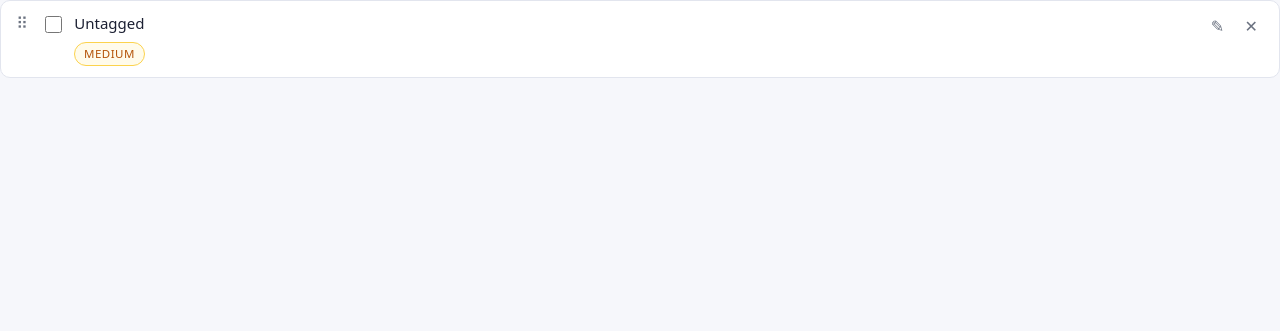
Test: TodoList › offers every tag in the edit form, not just the assigned ones
Click the button named "Edit Untagged".
click(1218, 26)  # box top-left (1202, 12), bottom-right (1233, 40)
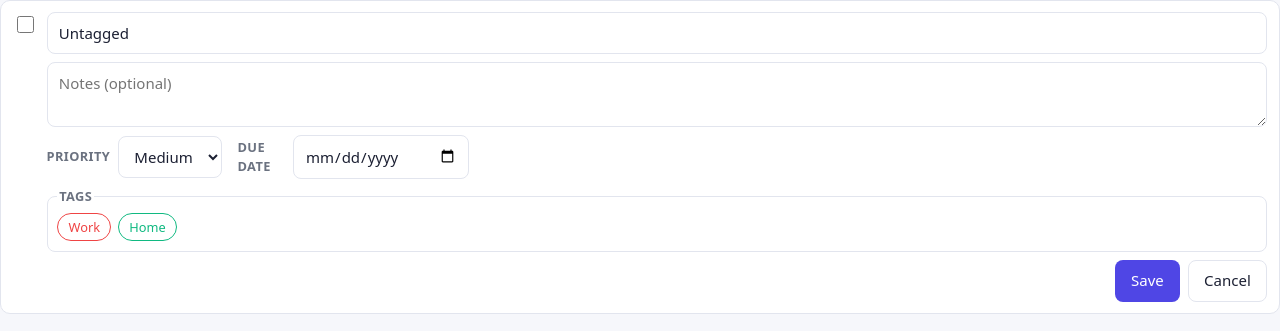
Expected: the button "Work" is shown, top-left (57, 213), bottom-right (112, 241)
Expected: the button "Home" is shown, top-left (118, 213), bottom-right (177, 241)
